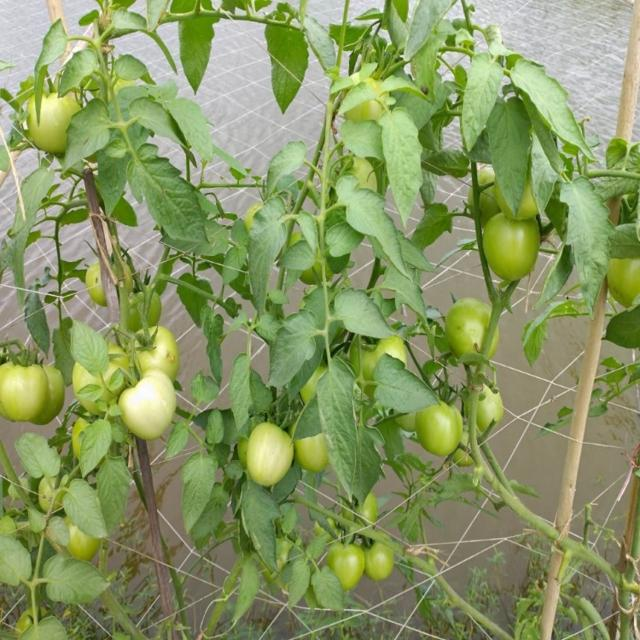tomato: (476, 215, 533, 290), (119, 377, 182, 439), (446, 297, 502, 358), (246, 423, 294, 488), (1, 362, 48, 427), (77, 344, 122, 411), (418, 396, 464, 453), (31, 91, 75, 150), (136, 324, 178, 380), (605, 252, 640, 309), (350, 81, 394, 123), (358, 332, 400, 376), (472, 380, 506, 433), (41, 363, 70, 424), (327, 541, 360, 594), (59, 519, 98, 562), (500, 176, 536, 217), (294, 430, 328, 473), (364, 535, 395, 582), (131, 279, 162, 325), (342, 491, 378, 528), (473, 179, 505, 211), (41, 474, 68, 509), (86, 260, 108, 298), (74, 415, 91, 453)
